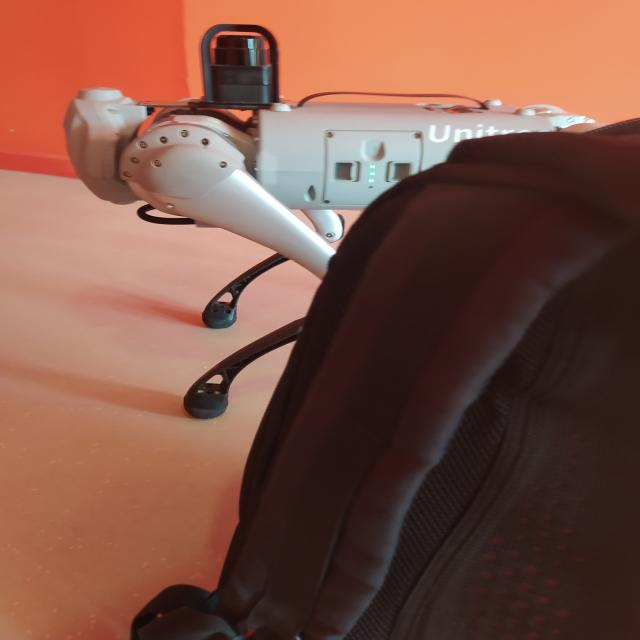unitree-go1-robot: (48, 17, 606, 426)
